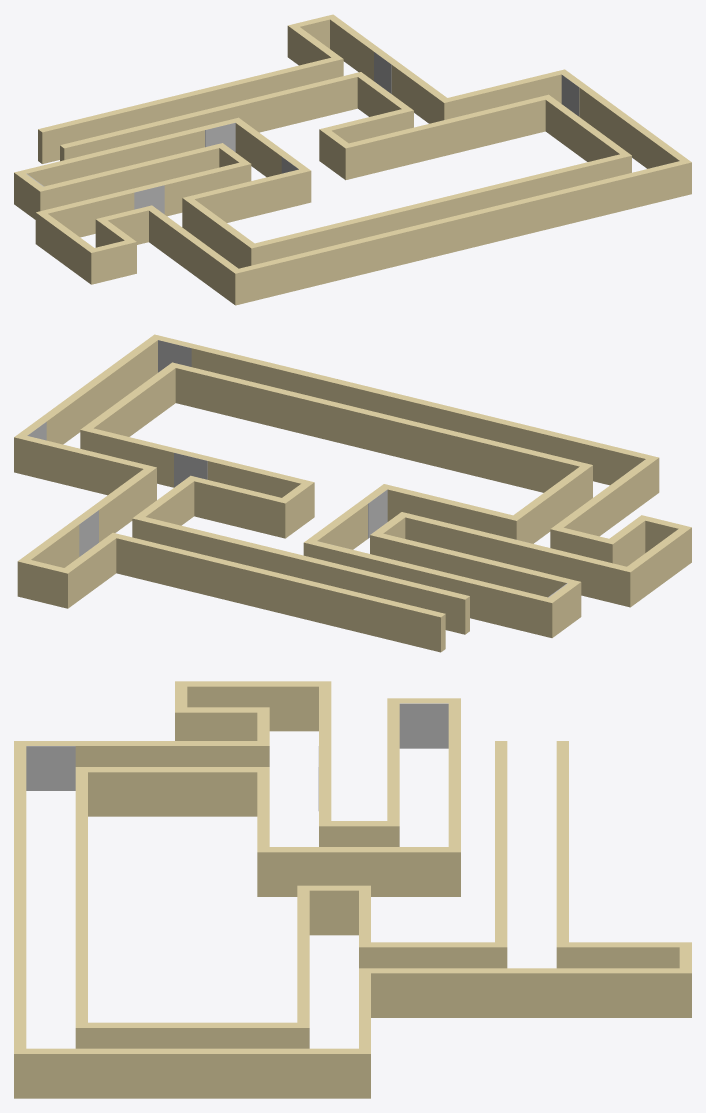
File: qr_code_maze.dae
The picture shows the model from 3 angles, top to bottom: view 1: azimuth 30°, elevation 25°; view 2: azimuth 150°, elevation 25°; view 3: azimuth 270°, elevation 25°; orthographic projection. The views are drawn at different scales.
Parts seen in each view (by area): view 1: maze, board_8_left, board_6_right, board_3_right, board_1_right; view 2: maze, board_2_left, board_4_right, board_7_left, board_1_right; view 3: maze, board_9_stop, board_5_right.
Part boxes in pixels (x1,y1,x2,y2): maze: [14, 14, 691, 305]; board_8_left: [205, 122, 235, 151]; board_6_right: [134, 185, 164, 214]; board_3_right: [561, 75, 579, 116]; board_1_right: [374, 52, 391, 93]; maze: [14, 334, 691, 652]; board_2_left: [174, 453, 207, 487]; board_4_right: [158, 340, 191, 372]; board_7_left: [368, 489, 387, 538]; board_1_right: [79, 510, 98, 556]; maze: [14, 681, 691, 1098]; board_9_stop: [399, 703, 448, 748]; board_5_right: [26, 746, 75, 790].
Bounding box in the file's own units: 7.16 × 5.51 × 0.4.
